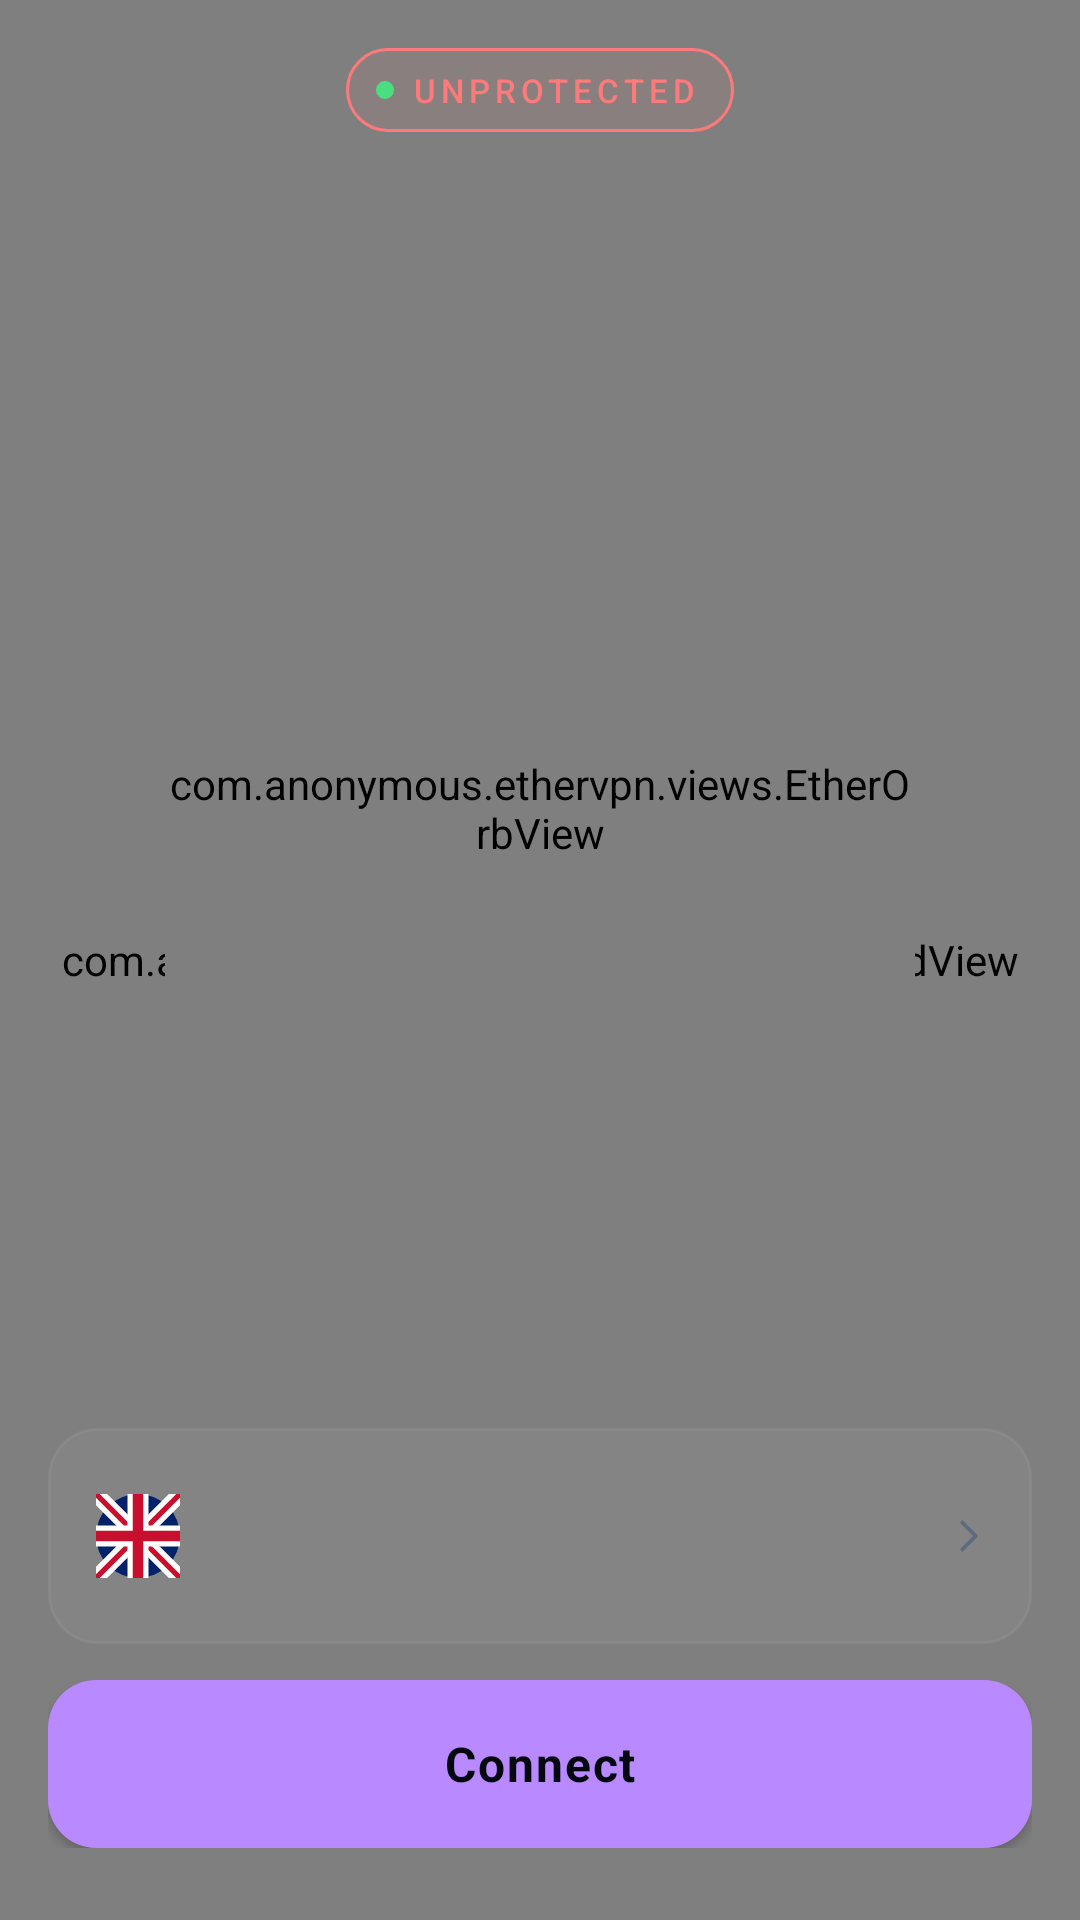

Where icons sit on this 1080w x 1920h app screen, as (x1, y1, x2, y2):
chevron right: (960, 1521, 977, 1551)
flag uk: (96, 1494, 180, 1578)
